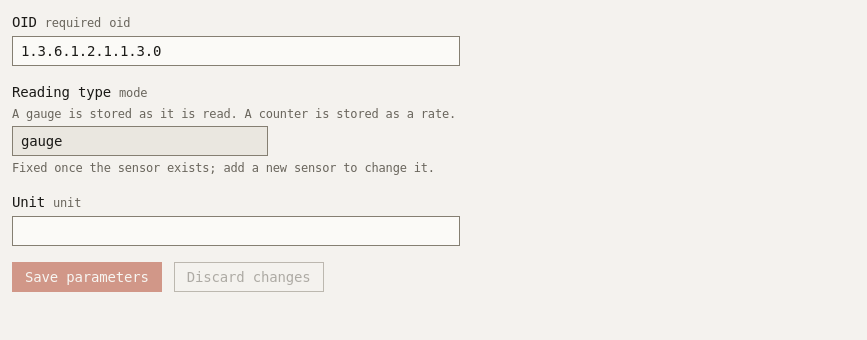
the refusal, when the core still sends it › shows any other refusal as before, as an alert
Type "C" into the field labelled "Unit" at (236, 231), box [12,216,460,246]
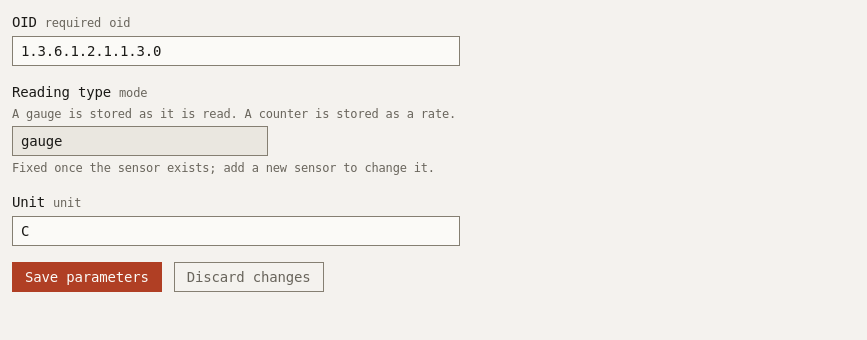
Click the button "Save parameters" at (87, 277), box [12,262,162,292]
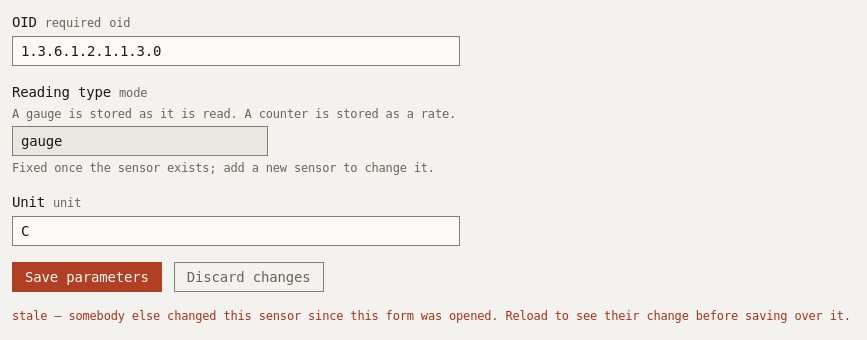
Check: the message shows "somebody else changed this sensor", box [47,309,851,323]
